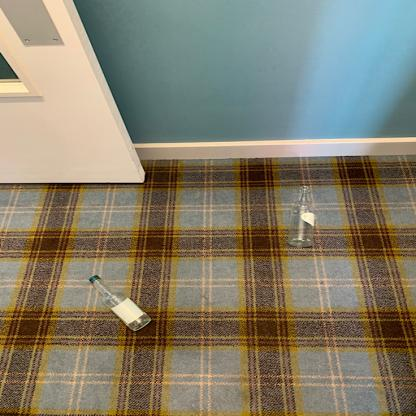trash: (87, 275, 152, 334), (285, 186, 319, 248)
